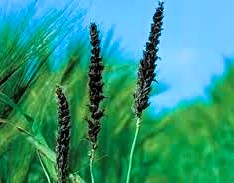Wheat Loose Smut: (129, 6, 167, 113)
